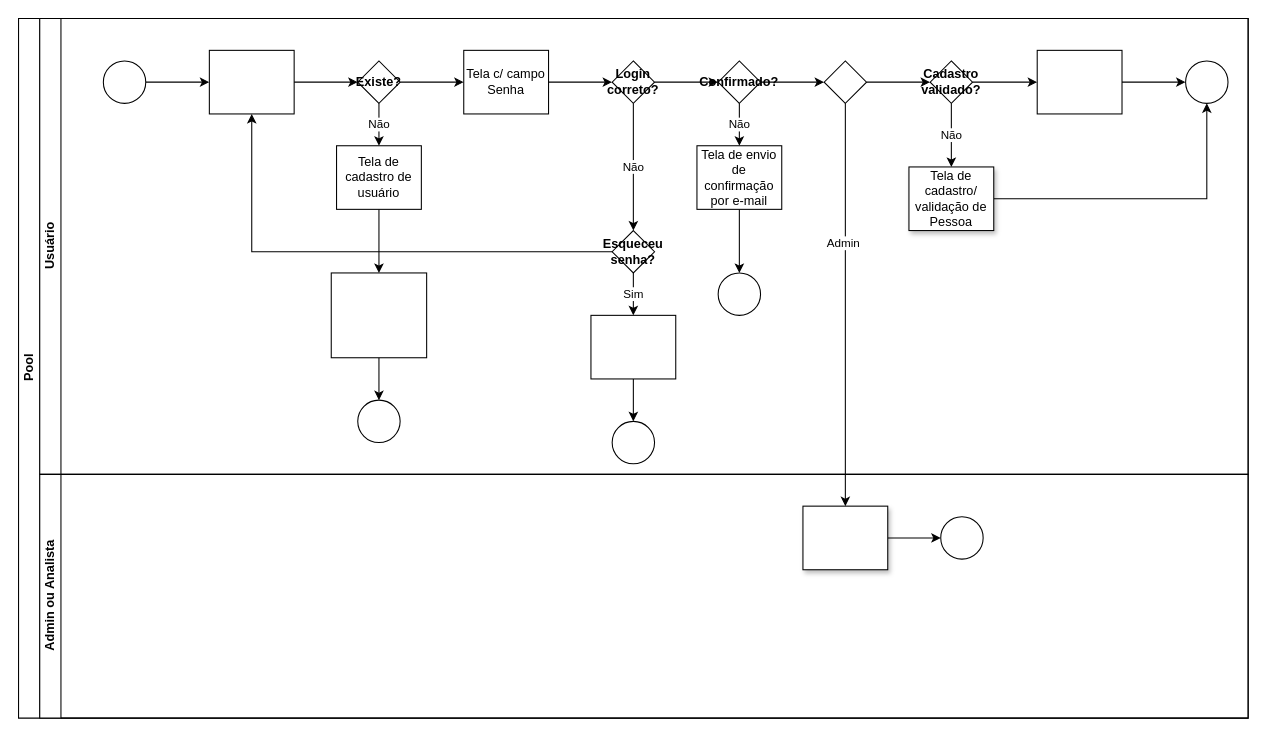
This 1267x737 diagram has some shape labels left out. The shapes that lost their labels are listed below. From the top down, each one's centre as x and y in pixels, then its label:
(x=251, y=81): Tela c/ campo E-mail
(x=845, y=81): Usuário (não Admin)?
(x=1079, y=81): Tela de confirmação de cadastro
(x=378, y=315): Tela/Mensagem confirmação de cadastro de usuário
(x=633, y=346): Tela de recuperação de senha por e-mail
(x=846, y=539): Tela de análises pendentes
